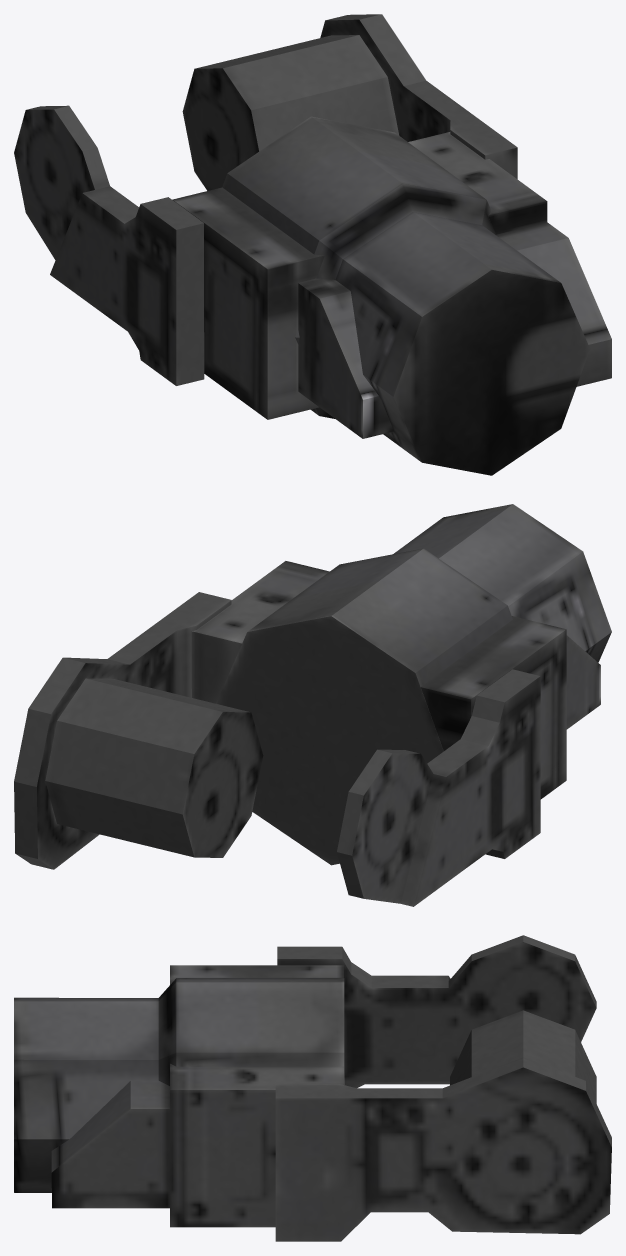
File: r_elbow_rx.DAE
3 renders of one model, top to bottom at view 1: azimuth 30°, elevation 25°; view 2: azimuth 150°, elevation 25°; view 3: azimuth 270°, elevation 25°, orthographic. The views are drawn at different scales.
Visible parts, largest first — view 1: drc_r_elbow_rx; view 2: drc_r_elbow_rx; view 3: drc_r_elbow_rx.
Boxes of the visible parts, x1=… form: drc_r_elbow_rx: x1=14, y1=14, x2=611, y2=475; drc_r_elbow_rx: x1=14, y1=504, x2=611, y2=906; drc_r_elbow_rx: x1=14, y1=935, x2=611, y2=1241.
Bounding box in the file's own units: 0.1333 × 0.2219 × 0.0927.
1 material, 1 textured.
